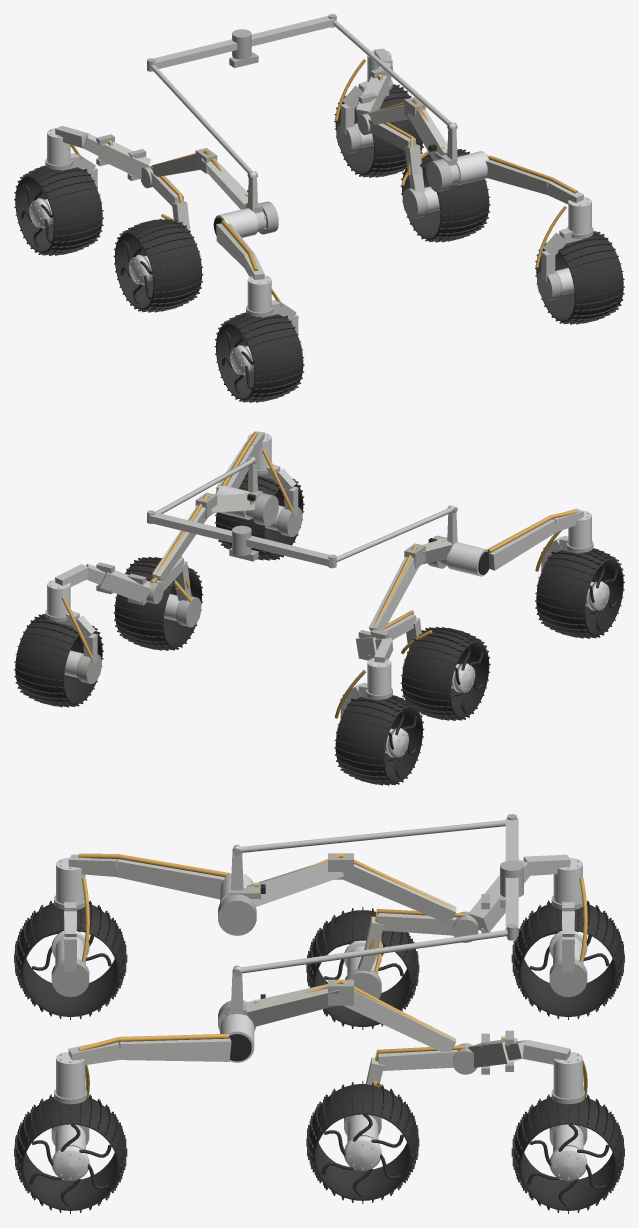
Rendered from mer-wheels.glb.
3 views of the same model, one above another, from view 1: azimuth 30°, elevation 25°; view 2: azimuth 150°, elevation 25°; view 3: azimuth 270°, elevation 25° (orthographic). The views are drawn at different scales.
Visible parts, largest first — view 1: WHEEL_MR, WHEEL_RR, WHEEL_FR, WHEEL_FL, WHEEL_ML, ROCKER_L_STRUCTURE, ROCKER_R_STRUCTURE, WHEEL_RL, BOGIE_L_FORWARD, BOGIE_R_FORWARD, DIFF_BAR, STRUT_FL (+13 smaller); view 2: WHEEL_MR, WHEEL_FR, WHEEL_RR, WHEEL_RL, WHEEL_ML, ROCKER_R_STRUCTURE, ROCKER_L_STRUCTURE, BOGIE_L_FORWARD, DIFF_BAR, WHEEL_FL, BOGIE_R_FORWARD, STRUT_FL (+13 smaller); view 3: WHEEL_ML, WHEEL_RL, WHEEL_FL, ROCKER_L_STRUCTURE, ROCKER_R_STRUCTURE, WHEEL_FR, WHEEL_RR, WHEEL_MR, BOGIE_R_FORWARD, BOGIE_L_FORWARD, STRUT_FR, STRUT_RR (+18 smaller).
Boxes of the visible parts, x1,y1,x2,y2 form: WHEEL_MR: [113, 218, 203, 312]; WHEEL_RR: [14, 165, 103, 255]; WHEEL_FR: [214, 312, 304, 402]; WHEEL_FL: [535, 231, 624, 324]; WHEEL_ML: [400, 149, 490, 242]; ROCKER_L_STRUCTURE: [369, 97, 583, 204]; ROCKER_R_STRUCTURE: [152, 148, 264, 279]; WHEEL_RL: [334, 84, 423, 177]; BOGIE_L_FORWARD: [355, 68, 424, 191]; BOGIE_R_FORWARD: [96, 134, 189, 230]; DIFF_BAR: [147, 14, 336, 71]; STRUT_FL: [537, 228, 582, 301]; WHEEL_MR: [400, 627, 490, 720]; WHEEL_FR: [535, 548, 624, 638]; WHEEL_RR: [334, 695, 424, 785]; WHEEL_RL: [14, 614, 103, 707]; WHEEL_ML: [113, 557, 203, 650]; ROCKER_R_STRUCTURE: [369, 508, 583, 631]; ROCKER_L_STRUCTURE: [152, 431, 264, 581]; BOGIE_L_FORWARD: [96, 557, 191, 605]; DIFF_BAR: [147, 510, 336, 568]; WHEEL_FL: [214, 472, 304, 560]; BOGIE_R_FORWARD: [355, 614, 421, 660]; STRUT_FL: [257, 464, 302, 536]; WHEEL_ML: [306, 1081, 419, 1203]; WHEEL_RL: [511, 1094, 624, 1213]; WHEEL_FL: [14, 1094, 127, 1213]; ROCKER_L_STRUCTURE: [68, 979, 456, 1065]; ROCKER_R_STRUCTURE: [68, 853, 456, 922]; WHEEL_FR: [14, 900, 127, 1019]; WHEEL_RR: [511, 900, 624, 1019]; WHEEL_MR: [306, 907, 419, 1029]; BOGIE_R_FORWARD: [358, 875, 505, 971]; BOGIE_L_FORWARD: [357, 1030, 522, 1115]; STRUT_FR: [51, 901, 89, 997]; STRUT_RR: [549, 901, 587, 997].
Size of the model in its own units: 1.22 by 0.6148 by 1.41.
